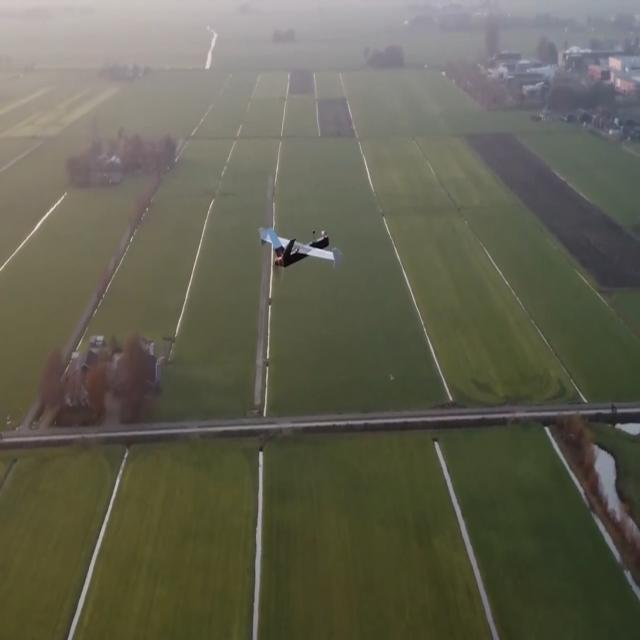iha: (290, 221, 311, 273)
